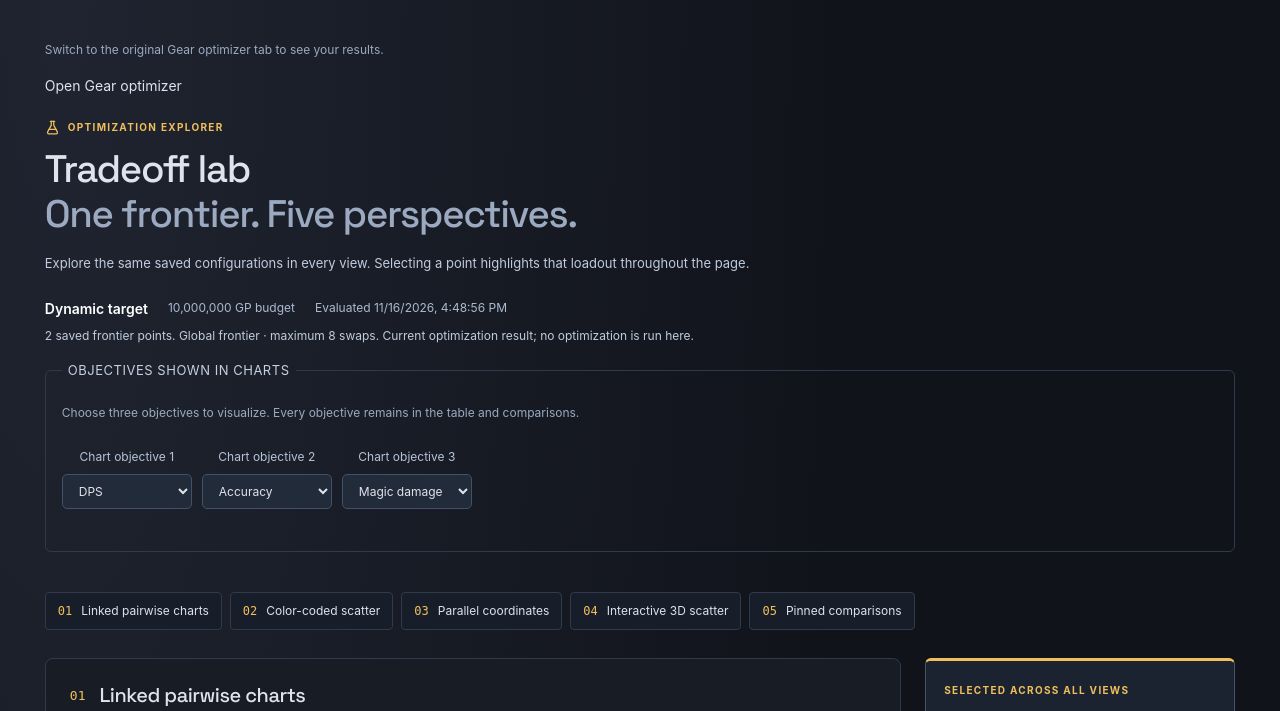
Test: temporary tradeoff lab › supports dynamic units and projection choices while keeping every objective in its table
This screenshot has width=1280, height=711.
expect the text "Dynamic target" is shown: met, box [45,298,148,319]
expect the text "Current optimization result" is shown: met, box [382,328,533,343]
Step 1. Select "Prayer bonus" in the dropdown labelled "Chart objective 3" → (407, 492), box [342,474,472,509]
(page scrolled)
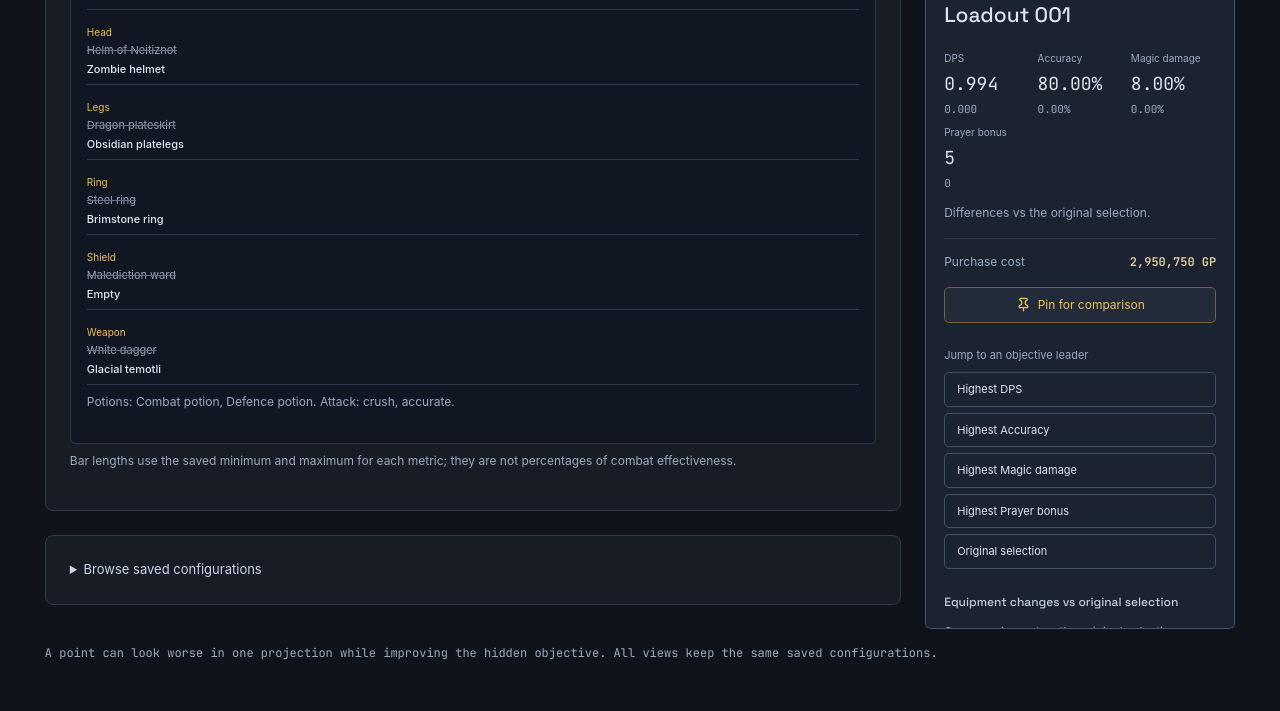
Step 2. Click the heading "Browse saved configurations" → (173, 569), box [84,561,262,577]
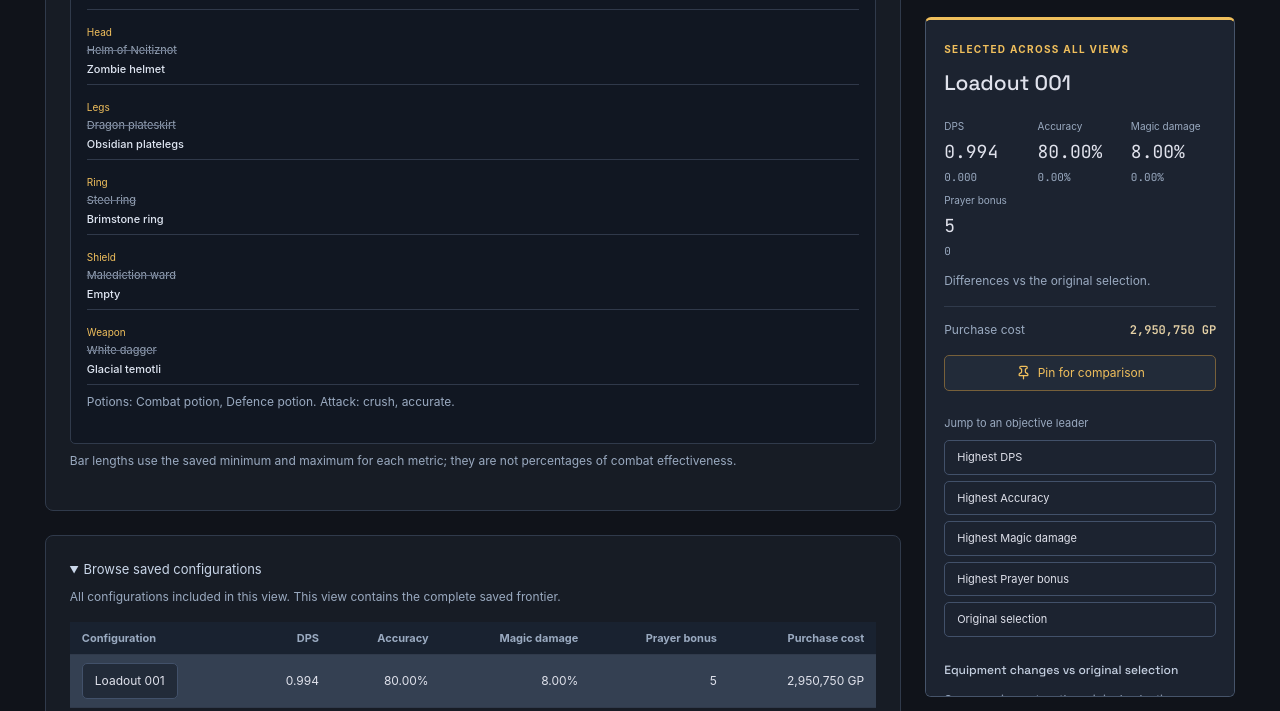
expect the column heading "Magic damage" is shown: met, box [441,622,590,655]
expect the text "80.00%" is shown: met, box [331,655,441,708]
expect the text "8.00%" is shown: met, box [441,655,590,708]
